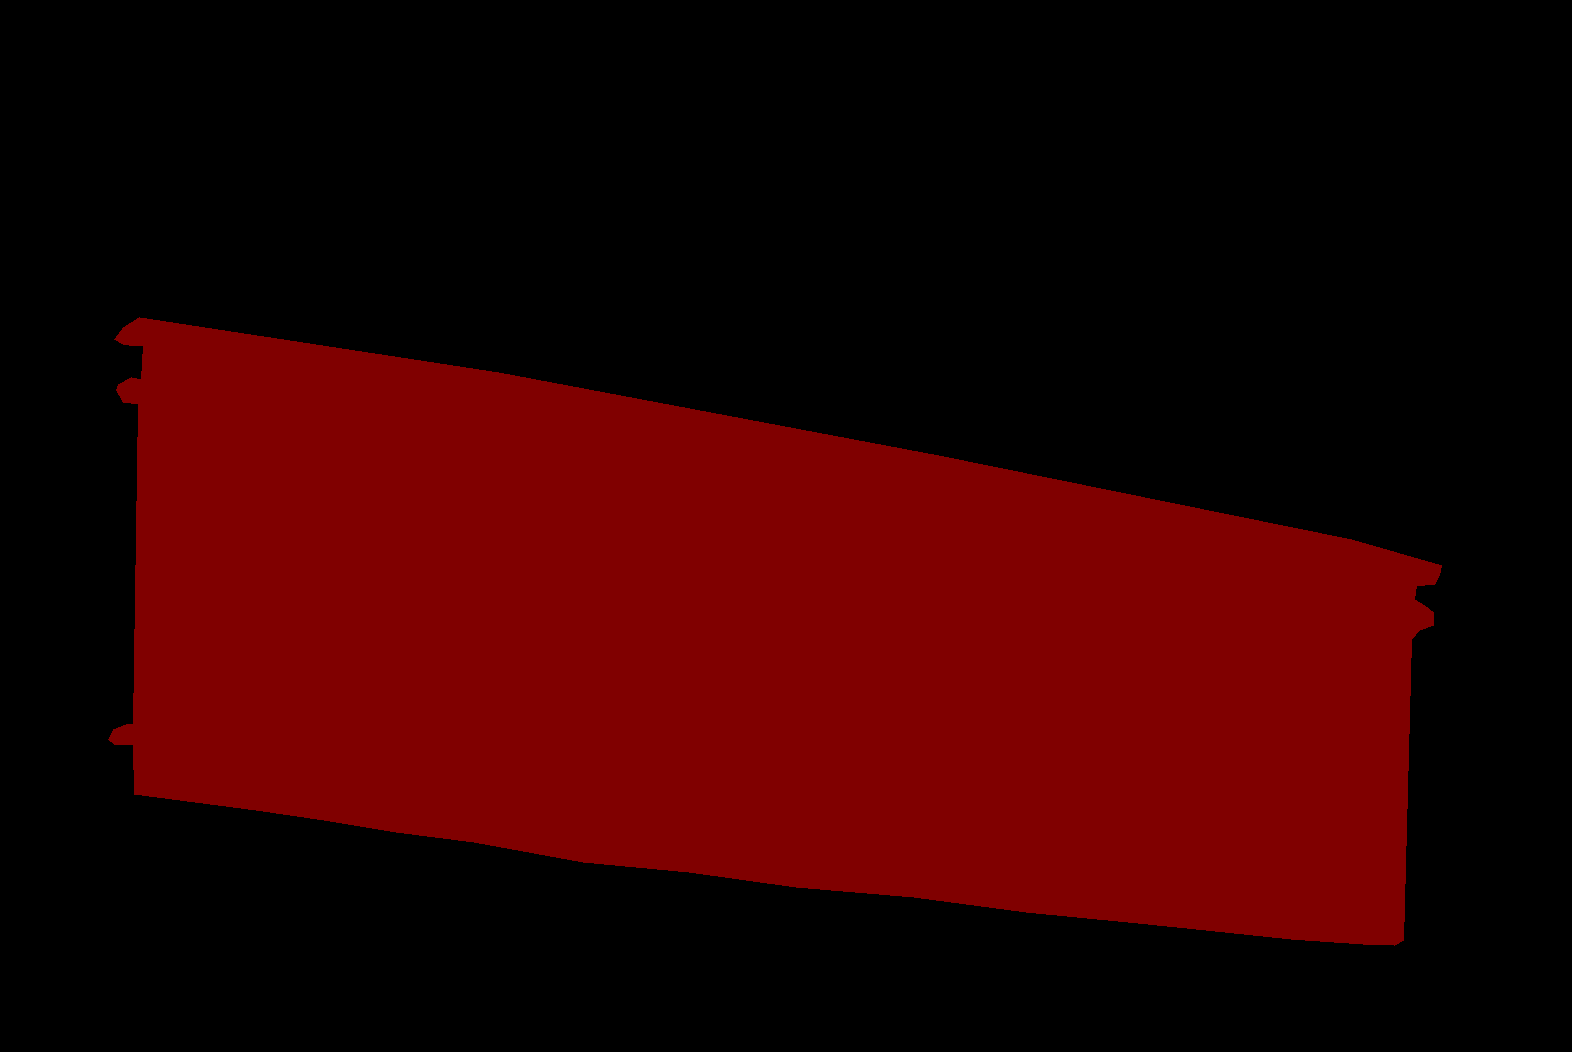sign: (108, 317, 1441, 945)
